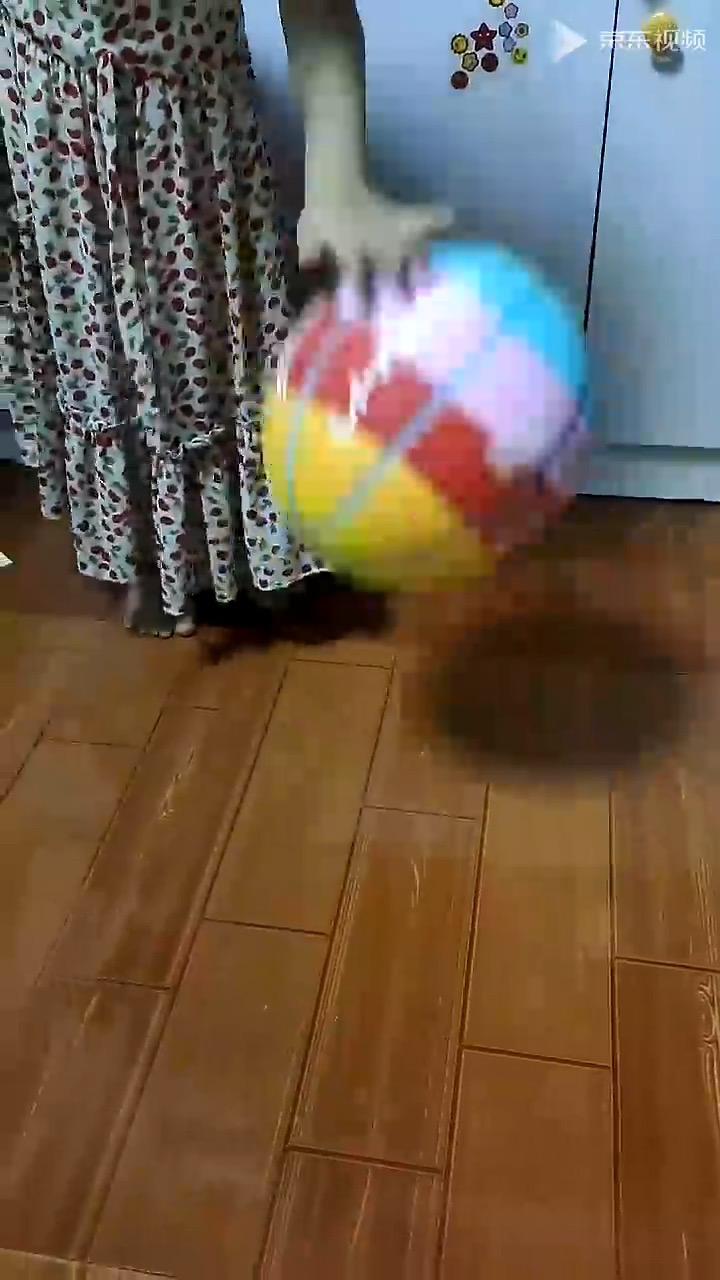ball: (257, 231, 600, 602)
